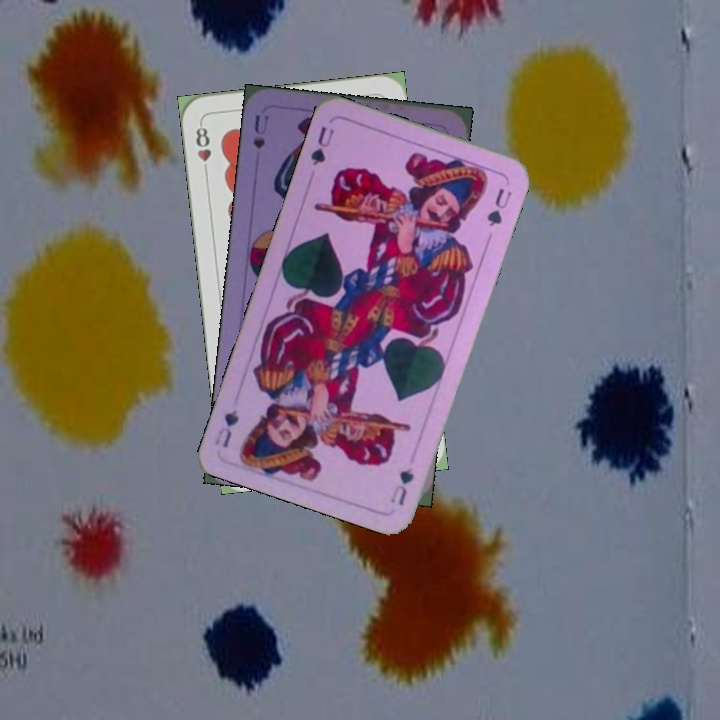GU: (306, 122, 337, 169), (386, 463, 417, 508)
H8: (192, 119, 214, 178)
SU: (249, 111, 271, 152)
